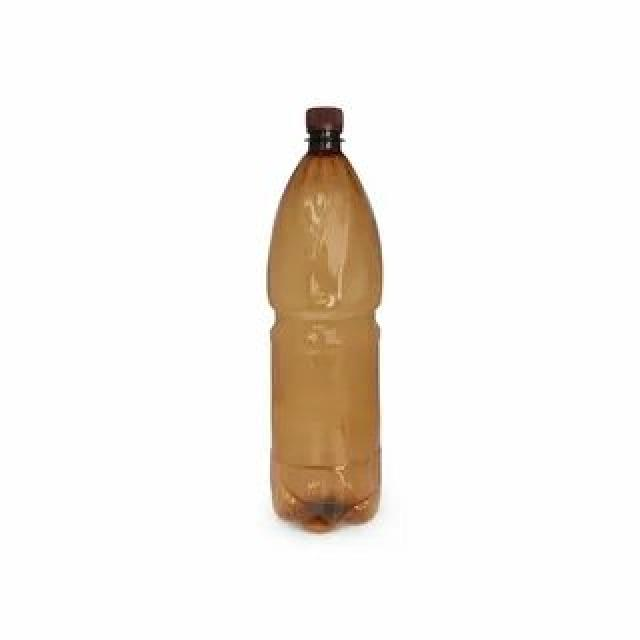brown: (270, 133, 382, 532)
